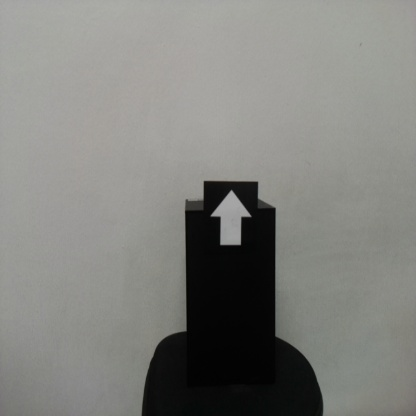id_1: (204, 182, 259, 260)
